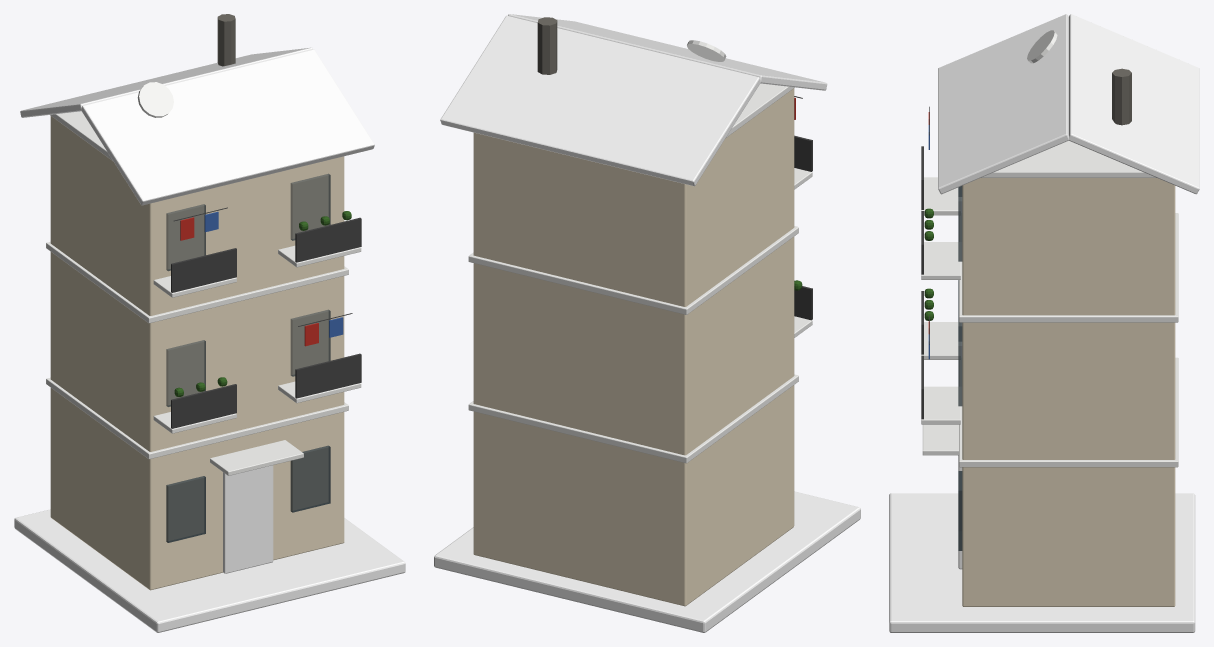
The model's file is apartman.glb.
3 views of the same model, side by side, from view 1: azimuth 30°, elevation 25°; view 2: azimuth 150°, elevation 25°; view 3: azimuth 270°, elevation 25° (orthographic). The views are drawn at different scales.
Parts seen in each view (by area): view 1: Baca; view 2: Baca; view 3: Baca.
Part boxes in pixels (box(x1,y1,x2,y2)): Baca: box(14, 14, 405, 632); Baca: box(434, 14, 860, 632); Baca: box(889, 14, 1199, 632).
Bounding box in the file's own units: 0.9855 × 1.86 × 1.
